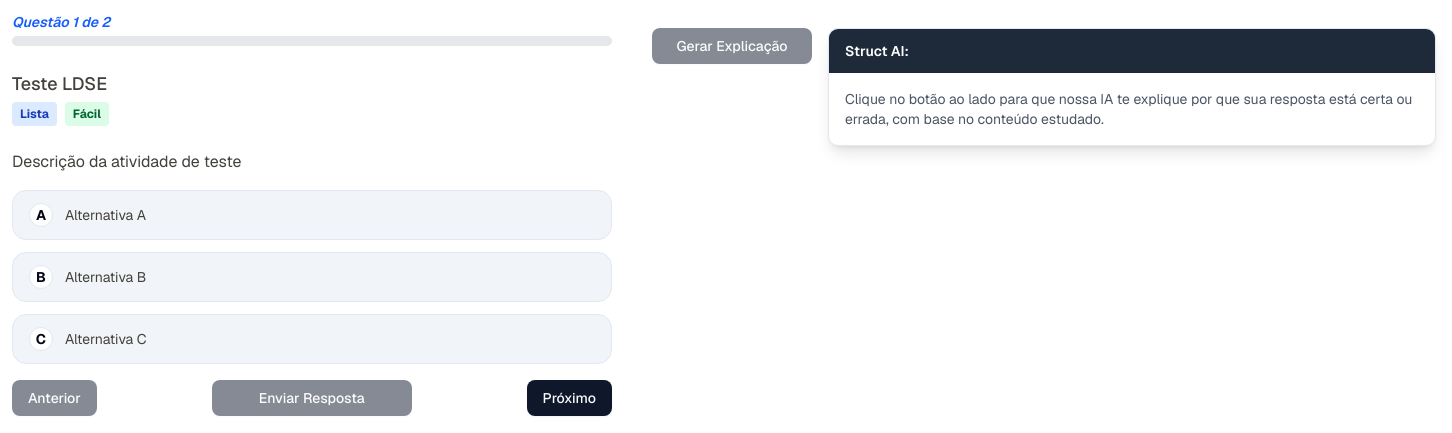
Test: QuestaoPage › deve navegar entre questões
This screenshot has width=1452, height=433.
Expected: the text "Questão 1 de 2" is shown, [12,13,110,31]
// Clica no botão próximo
Click the button "Próximo". click: (569, 398)
box: [527,380,612,416]
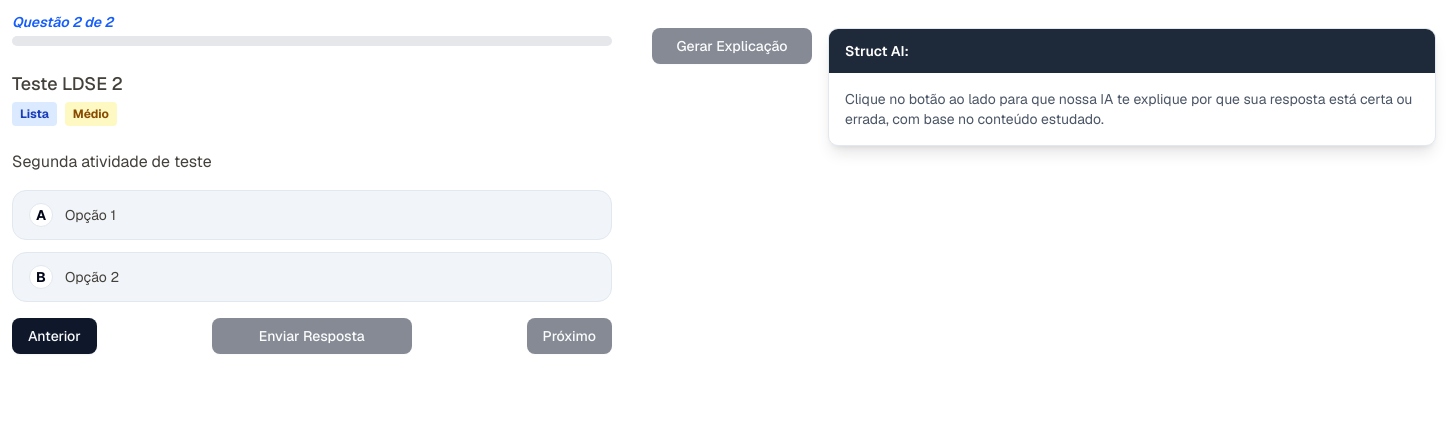
Now the text "Teste LDSE 2" is shown, box [12,72,123,95]
Now the text "Questão 2 de 2" is shown, box [12,13,113,31]
// Clica no botão anterior
Click the button "Anterior". click: (54, 336)
box: [12,318,97,354]
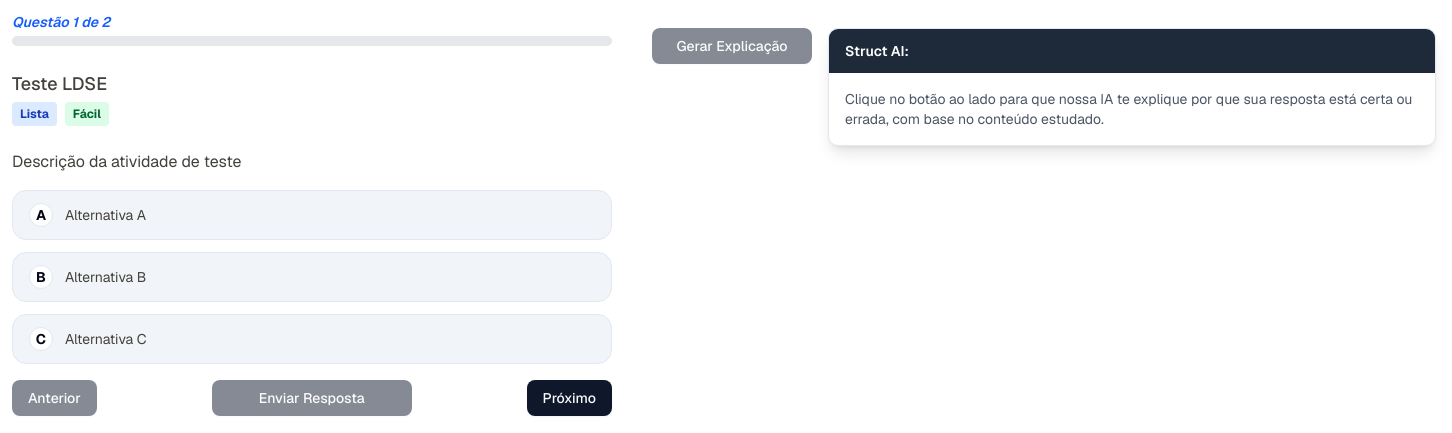
Expected: the text "Teste LDSE" is shown, [12,72,107,95]
Now the text "Questão 1 de 2" is shown, box [12,13,110,31]
